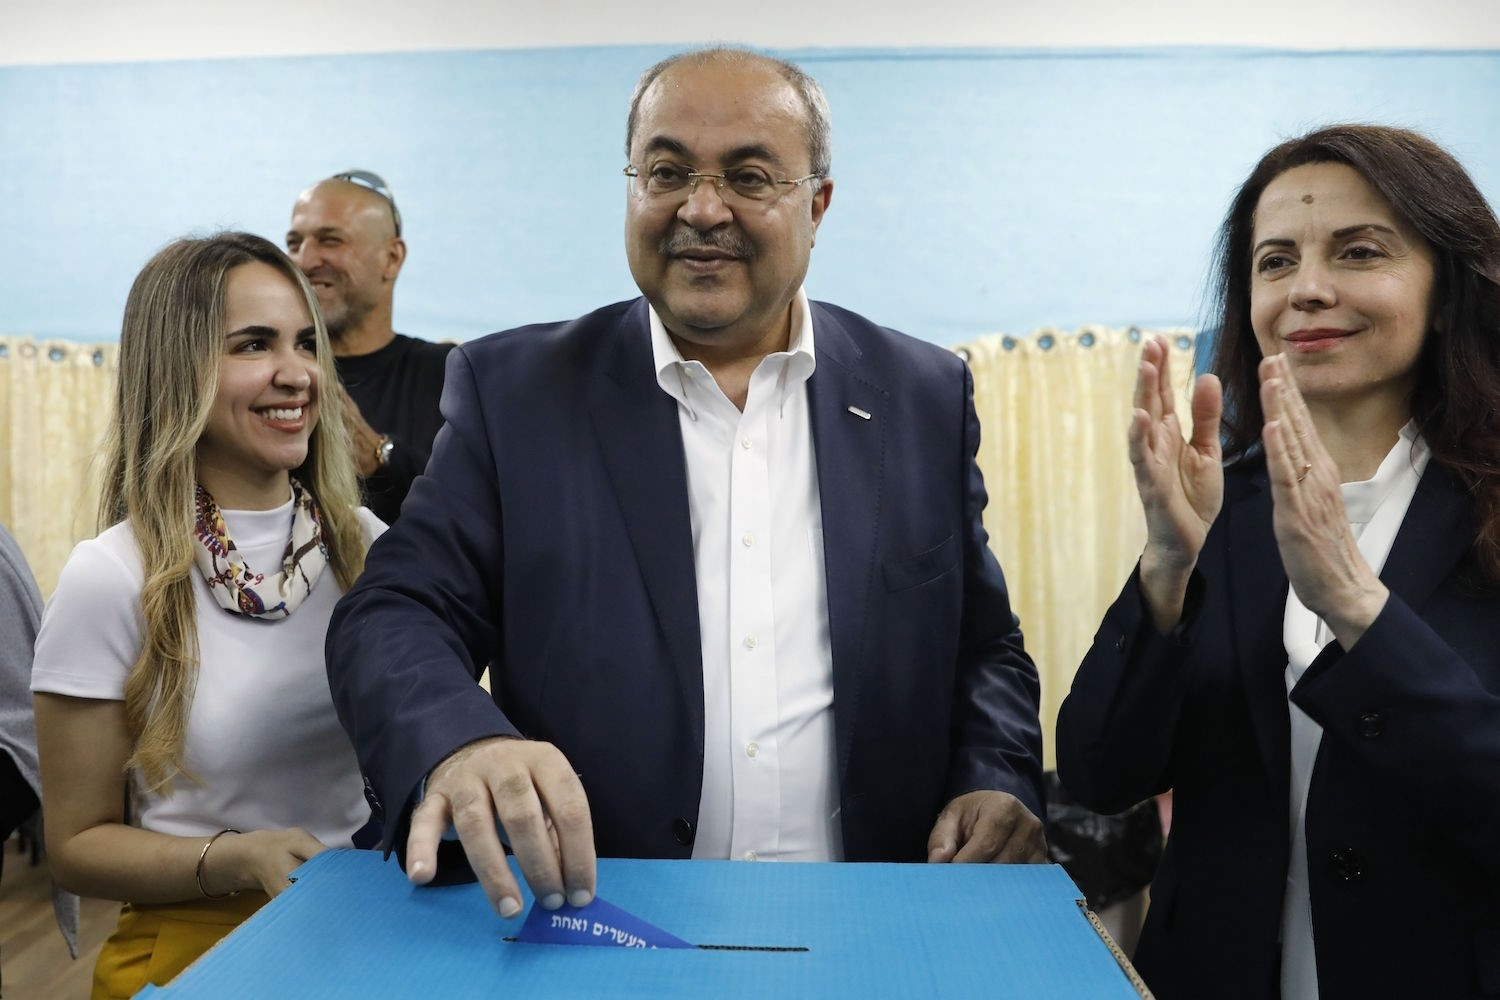face_no_mask: (624, 54, 822, 334), (1245, 141, 1440, 400), (164, 244, 329, 474), (274, 190, 398, 328)
